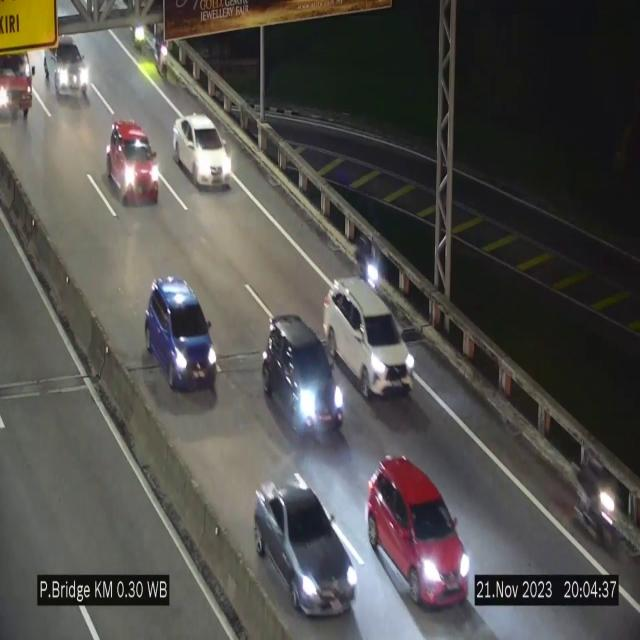Car: (367, 456, 471, 610), (255, 477, 357, 615), (323, 277, 415, 397), (262, 315, 344, 430), (145, 277, 217, 391), (106, 119, 160, 205), (172, 114, 232, 188), (41, 32, 91, 102), (0, 42, 39, 122)
Motorcycle: (578, 450, 622, 556), (356, 238, 386, 294), (152, 30, 170, 85), (129, 12, 145, 56)
